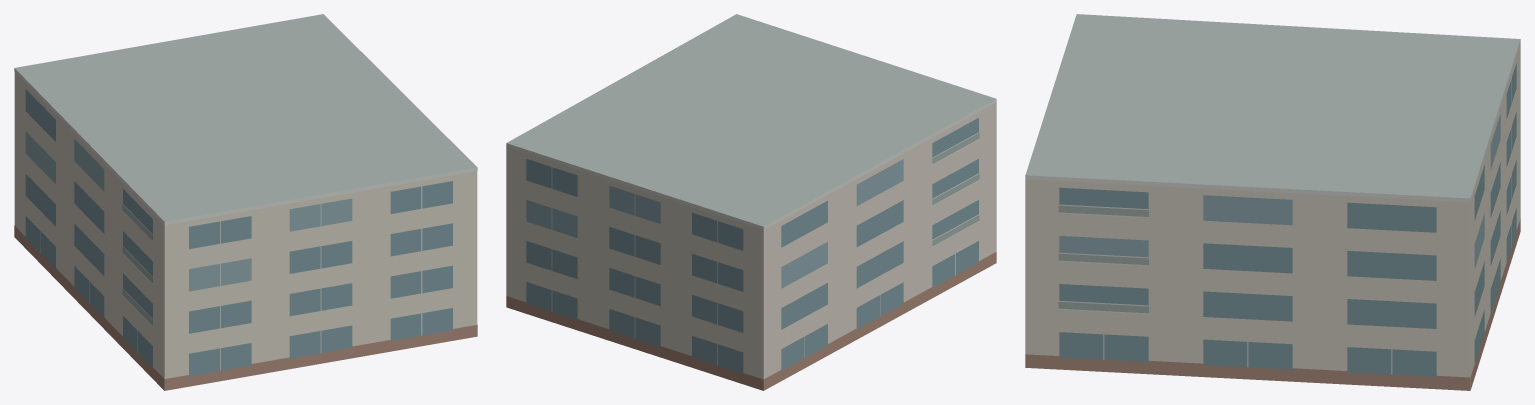
The model's file is survey-upis-32835022.glb.
The picture shows the model from 3 angles, left to right: view 1: azimuth 30°, elevation 25°; view 2: azimuth 150°, elevation 25°; view 3: azimuth 270°, elevation 25°; orthographic projection. The views are drawn at different scales.
Visible parts, largest first — view 1: survey-upis-32835022.tmp; view 2: survey-upis-32835022.tmp; view 3: survey-upis-32835022.tmp.
Part boxes in pixels (x1,y1,x2,y2): survey-upis-32835022.tmp: [14, 14, 477, 390]; survey-upis-32835022.tmp: [506, 14, 996, 390]; survey-upis-32835022.tmp: [1025, 14, 1520, 390].
Size of the model in its own units: 23.42 by 11.4 by 26.58.
